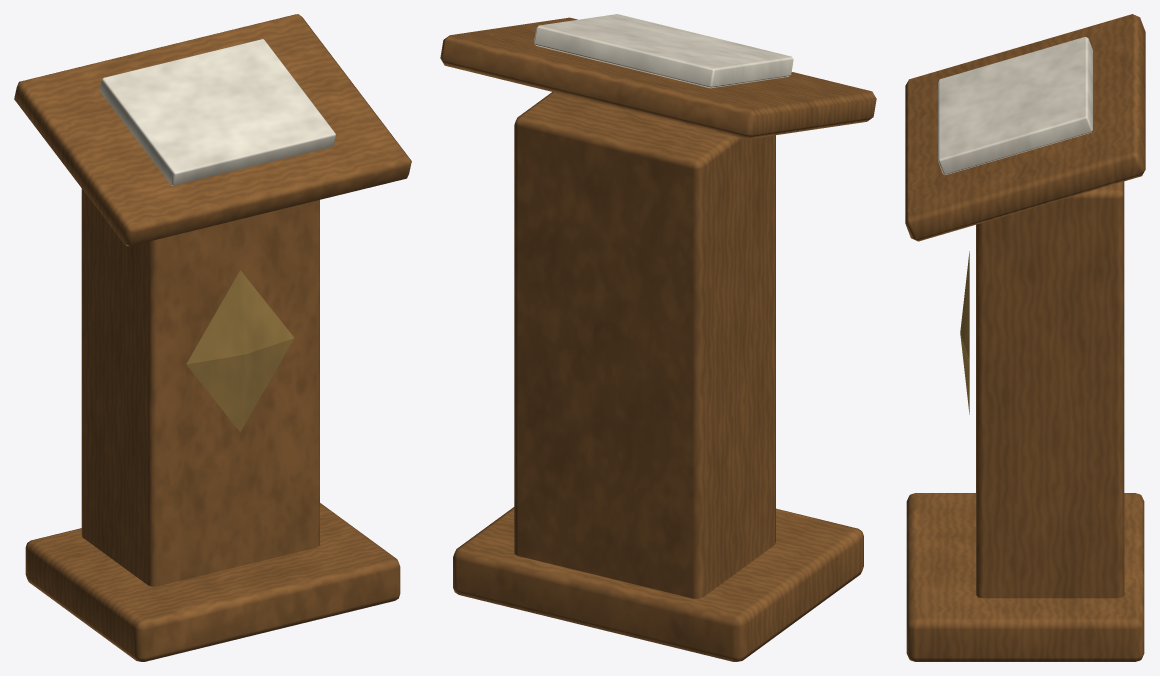
The model's file is Furn_Lectern.fbx.
The picture shows the model from 3 angles, left to right: view 1: azimuth 30°, elevation 25°; view 2: azimuth 150°, elevation 25°; view 3: azimuth 270°, elevation 25°; orthographic projection. The views are drawn at different scales.
Visible parts, largest first — view 1: Furn_Lectern_Mesh; view 2: Furn_Lectern_Mesh; view 3: Furn_Lectern_Mesh.
Boxes of the visible parts, bbox=[...] form: Furn_Lectern_Mesh: bbox=[14, 14, 411, 661]; Furn_Lectern_Mesh: bbox=[440, 14, 876, 661]; Furn_Lectern_Mesh: bbox=[905, 14, 1145, 661].
Size of the model in its own units: 0.7 by 1.2 by 0.5.
Materials: 3 (3 with a texture image).
